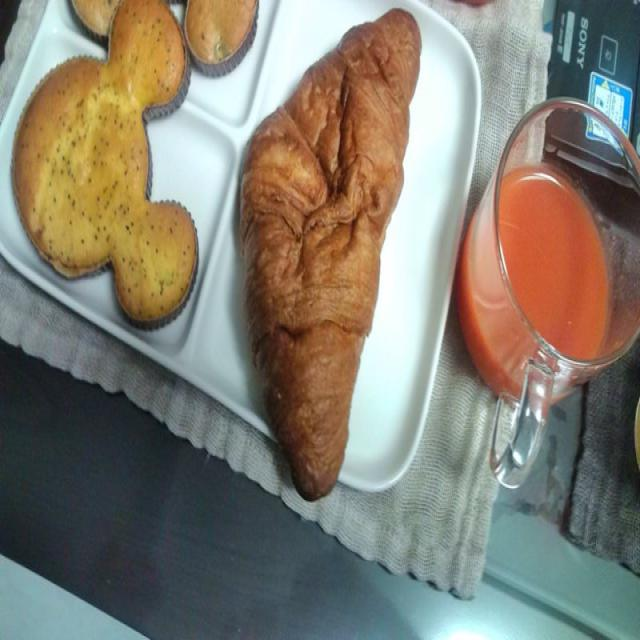Croissant: (227, 0, 438, 509)
